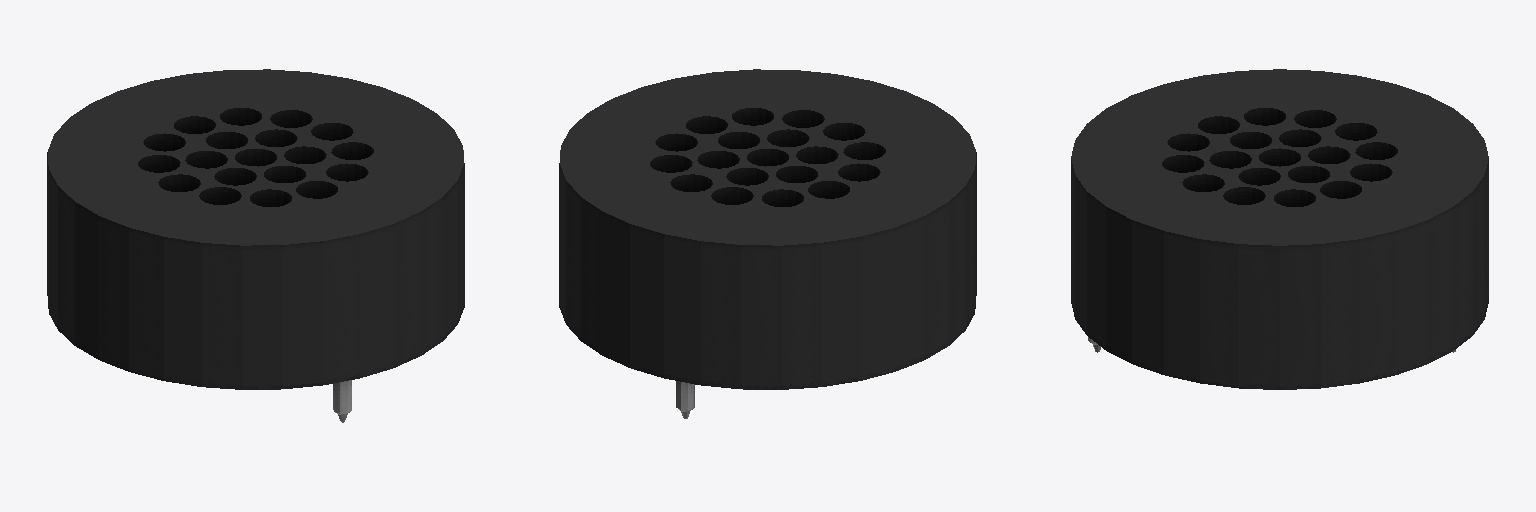
The picture shows the model from 3 angles: view 1: azimuth 30°, elevation 25°; view 2: azimuth 150°, elevation 25°; view 3: azimuth 270°, elevation 25°; orthographic projection.
Parts seen in each view (by area): view 1: Cube.023_Cube.021; view 2: Cube.023_Cube.021; view 3: Cube.023_Cube.021.
Boxes of the visible parts, x1,y1,x2,y2 form: Cube.023_Cube.021: [47, 69, 464, 422]; Cube.023_Cube.021: [559, 69, 976, 418]; Cube.023_Cube.021: [1071, 69, 1488, 389].
Bounding box in the file's own units: 0.1166 × 0.0606 × 0.1166.
1 materials, 1 textured.